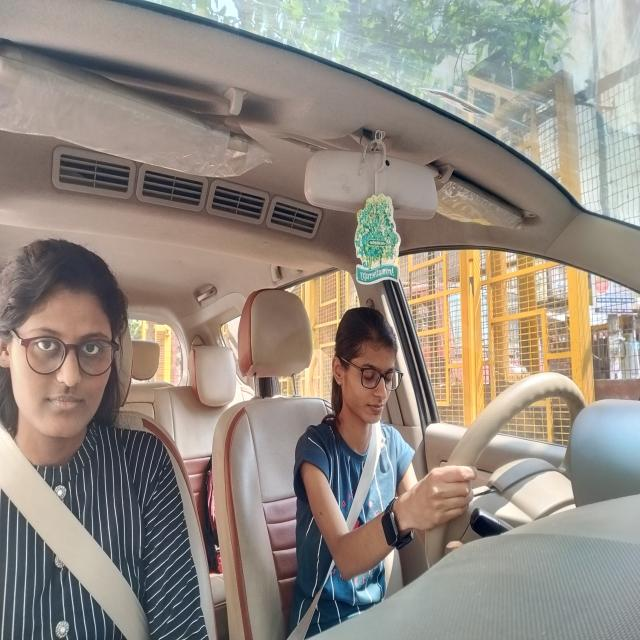drowsy: (332, 302, 404, 424)
person: (1, 240, 136, 446)
